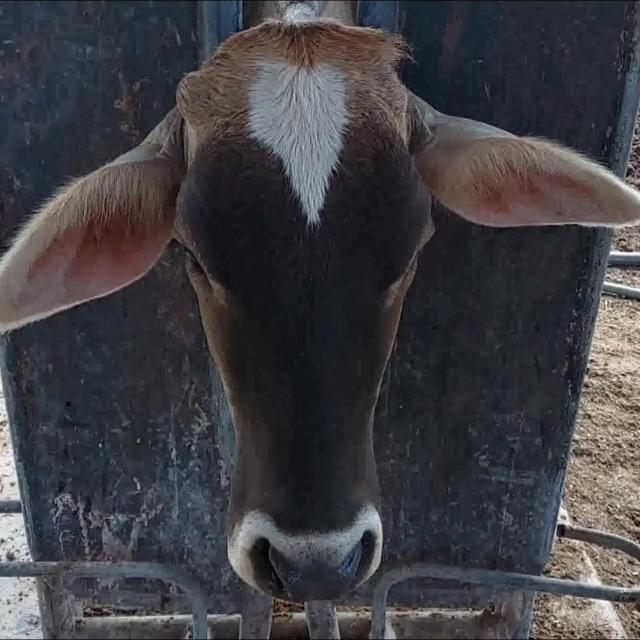cowFace: (171, 34, 437, 602)
